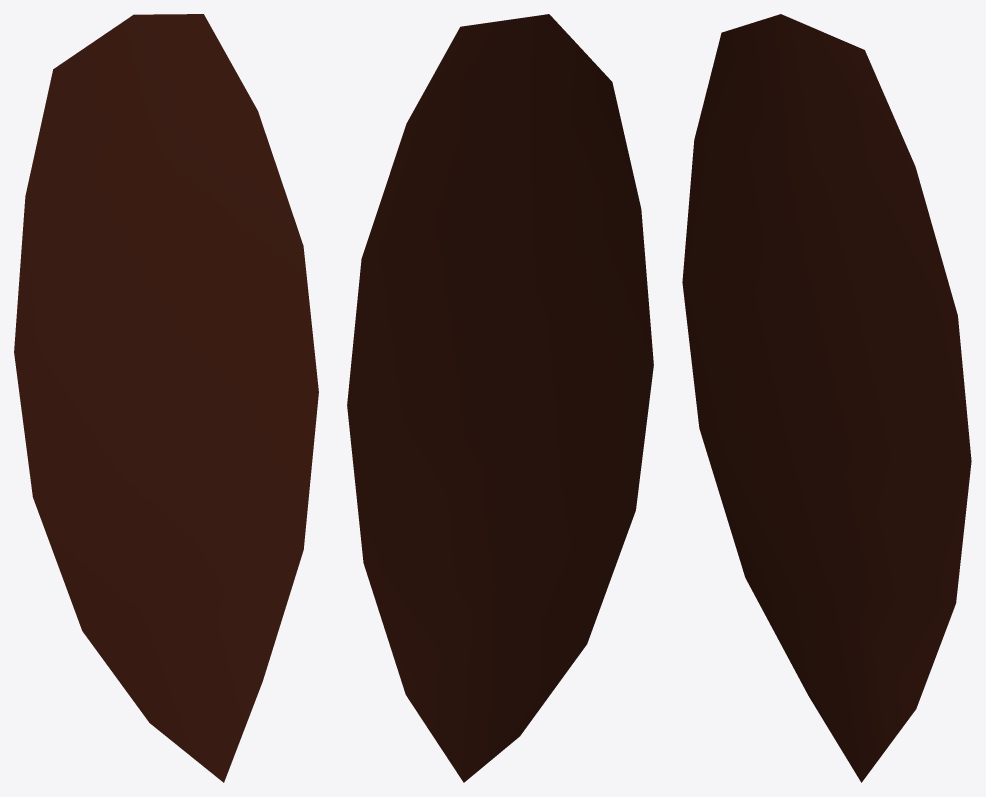
Rendered from rooster_feather_flight_tertiary_017.obj.
3 renders of one model, left to right at view 1: azimuth 30°, elevation 25°; view 2: azimuth 150°, elevation 25°; view 3: azimuth 330°, elevation 25°, orthographic. The views are drawn at different scales.
Parts seen in each view (by area): view 1: feather_flight_tertiary_017; view 2: feather_flight_tertiary_017; view 3: feather_flight_tertiary_017.
Part boxes in pixels (x1=…): feather_flight_tertiary_017: x1=14, y1=14, x2=318, y2=782; feather_flight_tertiary_017: x1=347, y1=14, x2=653, y2=782; feather_flight_tertiary_017: x1=682, y1=14, x2=971, y2=782.
Bounding box in the file's own units: 0.0097 × 0.024 × 0.000653.
